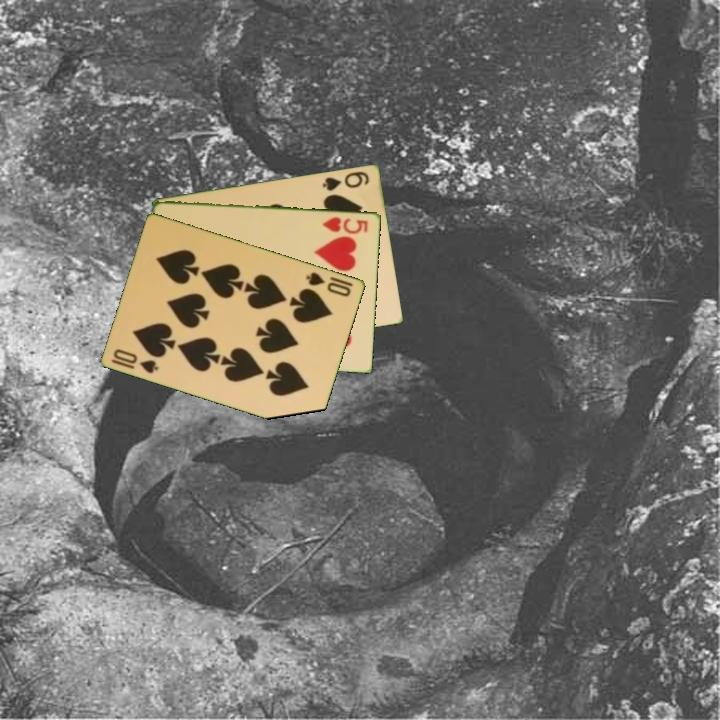10s: (108, 345, 162, 376), (303, 268, 354, 299)
5h: (319, 213, 371, 236)
6s: (319, 167, 372, 193)
